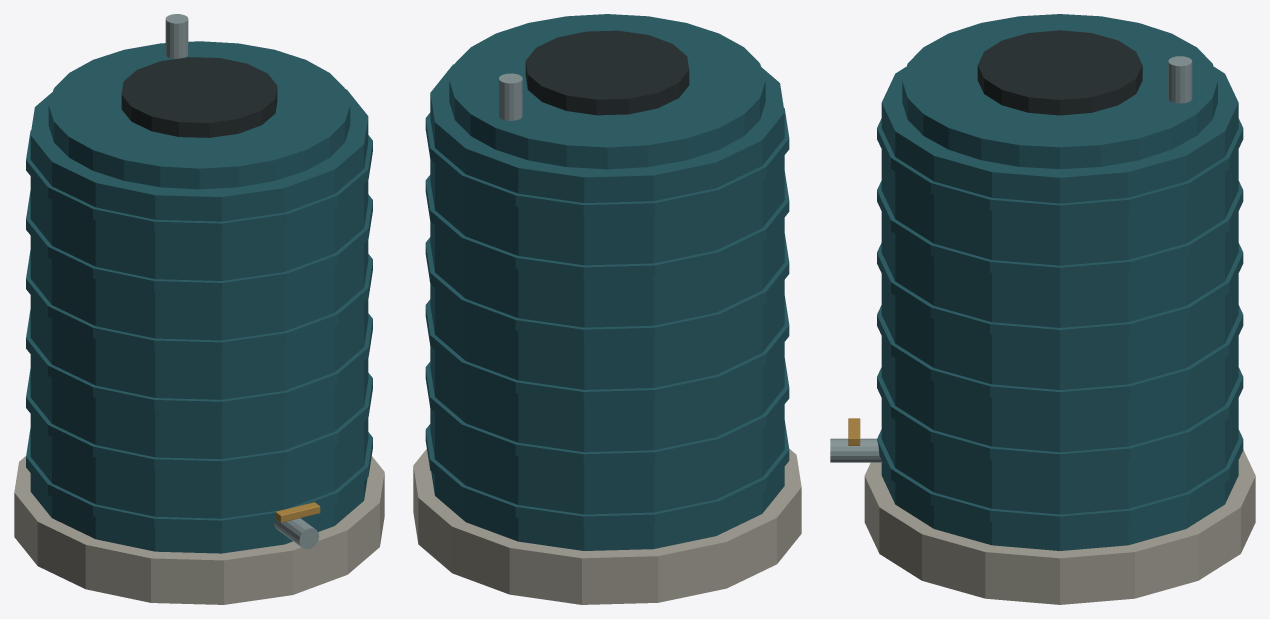
The model's file is source-edit.glb.
The picture shows the model from 3 angles, left to right: view 1: azimuth 30°, elevation 25°; view 2: azimuth 150°, elevation 25°; view 3: azimuth 270°, elevation 25°; orthographic projection. The views are drawn at different scales.
Visible parts, largest first — view 1: Tank, Shoulder_With_Open_Neck, Tank_Base, MOVABLE_Lid, Rib.004, Rib.003, Rib.005, Rib.002, Rib.001, Rib, Inlet, Outlet (+1 smaller); view 2: Tank, Shoulder_With_Open_Neck, Tank_Base, MOVABLE_Lid, Rib, Rib.001, Rib.002, Rib.005, Rib.003, Rib.004, Inlet; view 3: Tank, Shoulder_With_Open_Neck, Tank_Base, MOVABLE_Lid, Rib.003, Rib.004, Rib.005, Rib.002, Rib.001, Rib, Outlet, Inlet.
Boxes of the visible parts, <box> form: Tank: <box>30,89,368,553</box>; Shoulder_With_Open_Neck: <box>48,41,350,189</box>; Tank_Base: <box>14,456,384,604</box>; MOVABLE_Lid: <box>121,57,277,137</box>; Rib.004: <box>26,190,372,293</box>; Rib.003: <box>26,250,372,352</box>; Rib.005: <box>26,130,372,233</box>; Rib.002: <box>26,309,372,411</box>; Rib.001: <box>26,369,372,471</box>; Rib: <box>26,428,372,530</box>; Inlet: <box>165,14,188,58</box>; Outlet: <box>274,518,319,549</box>; Tank: <box>430,64,784,550</box>; Shoulder_With_Open_Neck: <box>449,14,765,169</box>; Tank_Base: <box>413,449,801,604</box>; MOVABLE_Lid: <box>525,30,689,115</box>; Rib: <box>425,420,789,527</box>; Rib.001: <box>425,358,789,464</box>; Rib.002: <box>425,296,789,402</box>; Rib.005: <box>425,108,789,215</box>; Rib.003: <box>425,234,789,340</box>; Rib.004: <box>425,171,789,278</box>; Inlet: <box>499,73,522,120</box>; Tank: <box>881,66,1238,550</box>; Shoulder_With_Open_Neck: <box>902,14,1217,169</box>; Tank_Base: <box>864,450,1255,604</box>; MOVABLE_Lid: <box>977,30,1142,115</box>; Rib.003: <box>877,243,1243,340</box>; Rib.004: <box>877,181,1243,278</box>; Rib.005: <box>877,118,1243,216</box>; Rib.002: <box>877,305,1243,402</box>; Rib.001: <box>877,367,1243,465</box>; Rib: <box>877,429,1243,527</box>; Outlet: <box>830,438,882,462</box>; Inlet: <box>1168,56,1192,103</box>.
Bounding box in the file's own units: 1.14 × 1.54 × 1.24.
